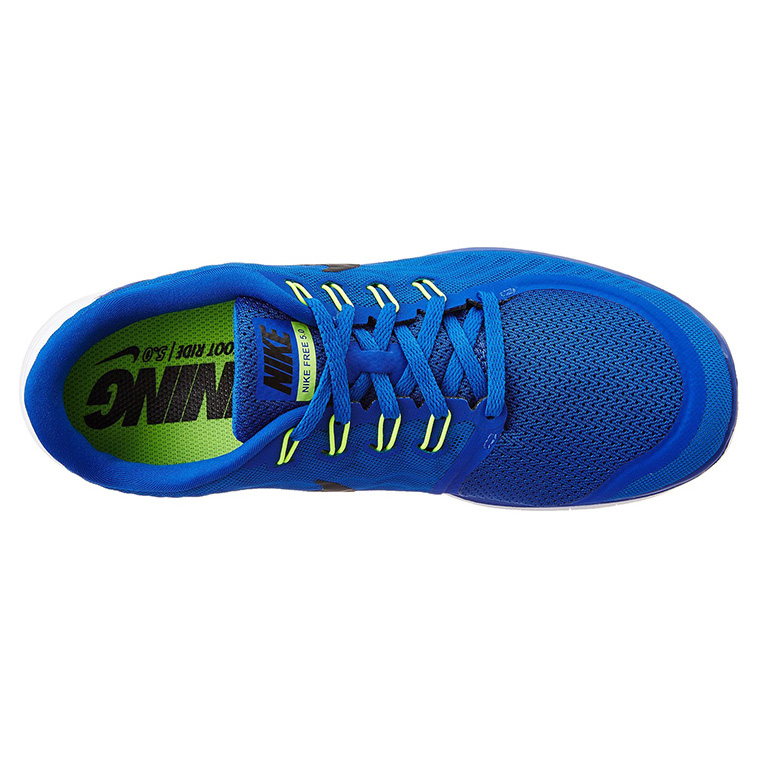Nike: (84, 341, 148, 371)
